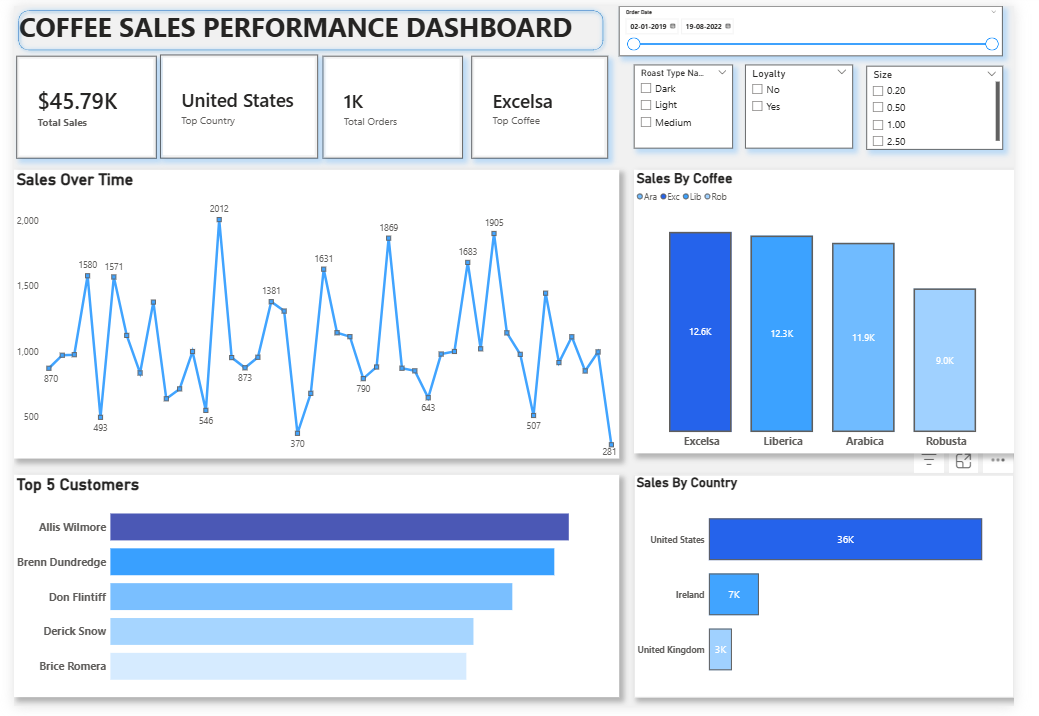

The dashboard page shown, as its layout file describes it:
{"tool":"powerbi","page":{"name":"Page 1","canvas":[2000,1400],"ordinal":0},"visuals":[{"type":"cardVisual","fields":{"Data":["orders.Check Orders"]},"box":[617.5,100,280,205],"z":0},{"type":"cardVisual","fields":{"Data":["orders.Total Sales"]},"box":[5,100,280,205],"z":1000},{"type":"cardVisual","fields":{"Data":["orders.Top Country"]},"box":[292.5,97.5,315,207.5],"z":2000},{"type":"cardVisual","fields":{"Data":["orders.Top Coffee"]},"box":[915,100,272.5,205],"z":3000},{"type":"lineChart","title":"Sales Over Time","fields":{"Y":["orders.Total Sales"],"Category":["orders.Order Date.Variation.Date Hierarchy.Year","orders.Order Date.Variation.Date Hierarchy.Month"]},"box":[0,327.5,1210,577.5],"z":4000},{"type":"barChart","title":"Sales By Country ","fields":{"Y":["orders.Total Sales"],"Category":["orders.Country"],"Series":["orders.Country"]},"box":[1240,937.5,760,445],"z":5000},{"type":"barChart","title":"Top 5 Customers","fields":{"Category":["orders.Customer Name"],"Y":["orders.Total Sales"]},"box":[0,937.5,1210,445],"z":6000},{"type":"columnChart","title":"Sales By Coffee","fields":{"Category":["orders.Coffee Type Name"],"Y":["orders.Total Sales"],"Series":["orders.Coffee Type"]},"box":[1240,327.5,760,567.5],"z":7000},{"type":"slicer","fields":{"Values":["orders.Order Date"]},"box":[1210,0,767.5,100],"z":8000},{"type":"textbox","box":[5,0,1130,120],"z":9000},{"type":"slicer","fields":{"Values":["orders.Roast Type Name"]},"box":[1240,117.5,197.5,167.5],"z":10000},{"type":"slicer","fields":{"Values":["orders.Loyalty"]},"box":[1462.5,117.5,215,167.5],"z":11000},{"type":"slicer","fields":{"Values":["orders.Size"]},"box":[1705,120,272.5,167.5],"z":12000},{"type":"shape","box":[0,0,1187.5,97.5],"z":12001}]}

Visuals, with their boxes in screenshot pixels (x1, y1, x2, y2), scaled from the page's 2000x1400 canvas onto the 1039x716 screenshot:
cardVisual - orders.Check Orders: (x1=321, y1=51, x2=466, y2=156)
cardVisual - orders.Total Sales: (x1=3, y1=51, x2=148, y2=156)
cardVisual - orders.Top Country: (x1=152, y1=50, x2=316, y2=156)
cardVisual - orders.Top Coffee: (x1=475, y1=51, x2=617, y2=156)
"Sales Over Time" lineChart: (x1=0, y1=167, x2=629, y2=463)
"Sales By Country " barChart: (x1=644, y1=479, x2=1038, y2=707)
"Top 5 Customers" barChart: (x1=0, y1=479, x2=629, y2=707)
"Sales By Coffee" columnChart: (x1=644, y1=167, x2=1038, y2=458)
slicer - orders.Order Date: (x1=629, y1=0, x2=1027, y2=51)
textbox: (x1=3, y1=0, x2=590, y2=61)
slicer - orders.Roast Type Name: (x1=644, y1=60, x2=747, y2=146)
slicer - orders.Loyalty: (x1=760, y1=60, x2=871, y2=146)
slicer - orders.Size: (x1=886, y1=61, x2=1027, y2=147)
shape: (x1=0, y1=0, x2=617, y2=50)
